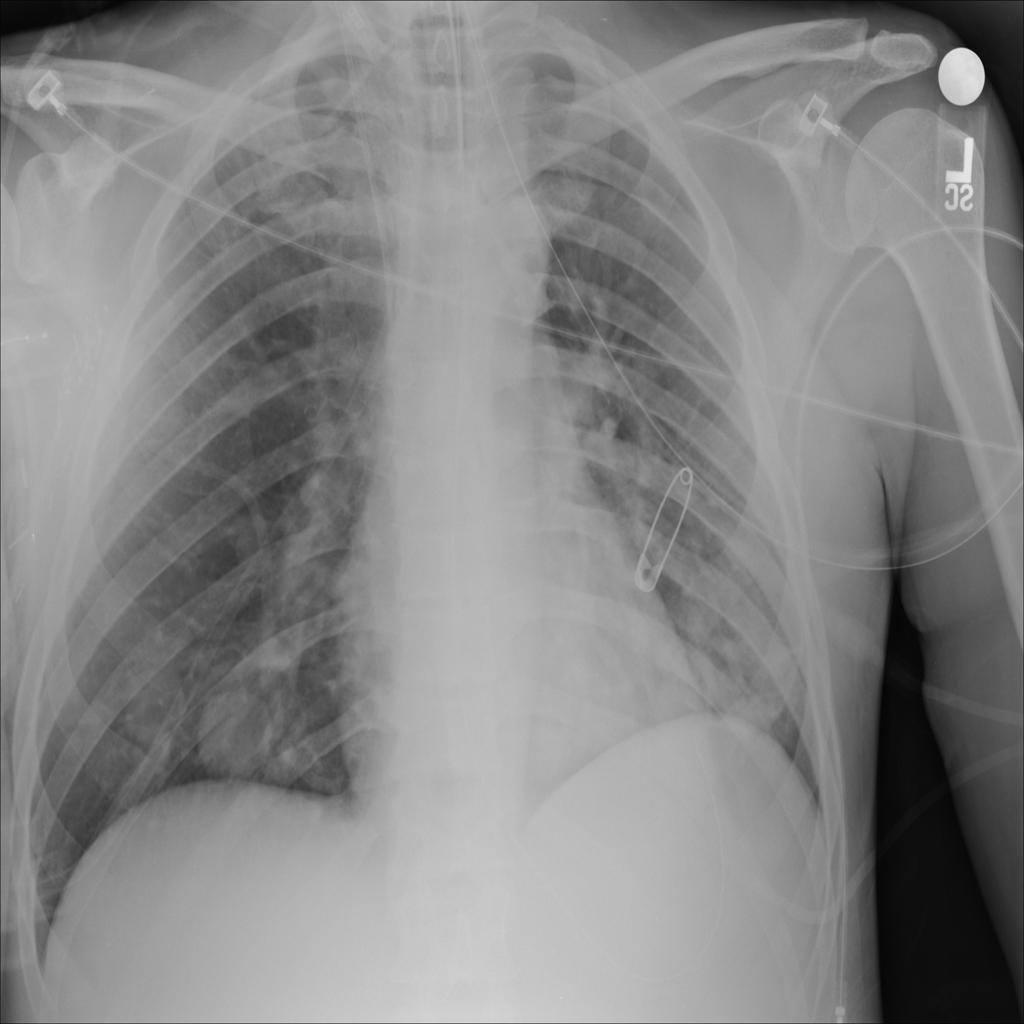nodule: (182, 665, 288, 790), (105, 671, 212, 770), (636, 667, 710, 745)
